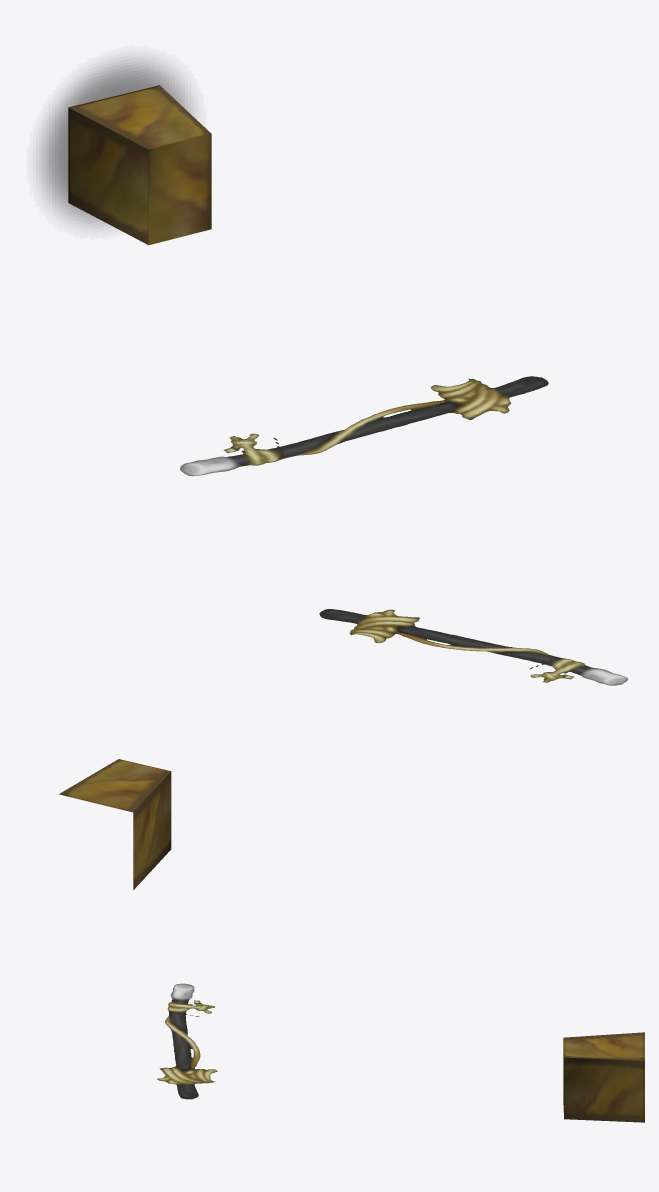
Rendered from streetlight_DD_right.glb.
The picture shows the model from 3 angles, top to bottom: view 1: azimuth 30°, elevation 25°; view 2: azimuth 150°, elevation 25°; view 3: azimuth 270°, elevation 25°; orthographic projection. The views are drawn at different scales.
Visible parts, largest first — view 1: base_right, stick_right, dropshadow_right; view 2: base_right, stick_right; view 3: base_right, stick_right.
Boxes of the visible parts, <box> form: base_right: <box>68,85,211,245</box>; stick_right: <box>180,376,548,476</box>; dropshadow_right: <box>39,58,193,227</box>; base_right: <box>59,759,171,889</box>; stick_right: <box>319,609,628,685</box>; base_right: <box>563,1032,644,1122</box>; stick_right: <box>157,983,217,1099</box>.
Size of the model in its own units: 4.65 by 2.4 by 10.04.
6 materials, 6 textured.
